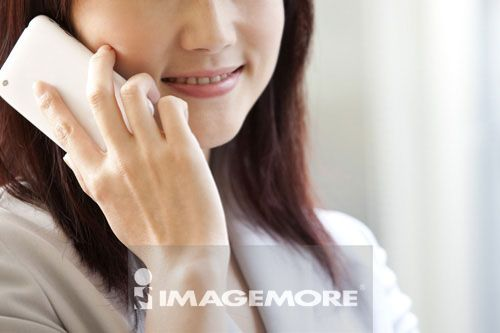phone: (1, 13, 155, 166)
